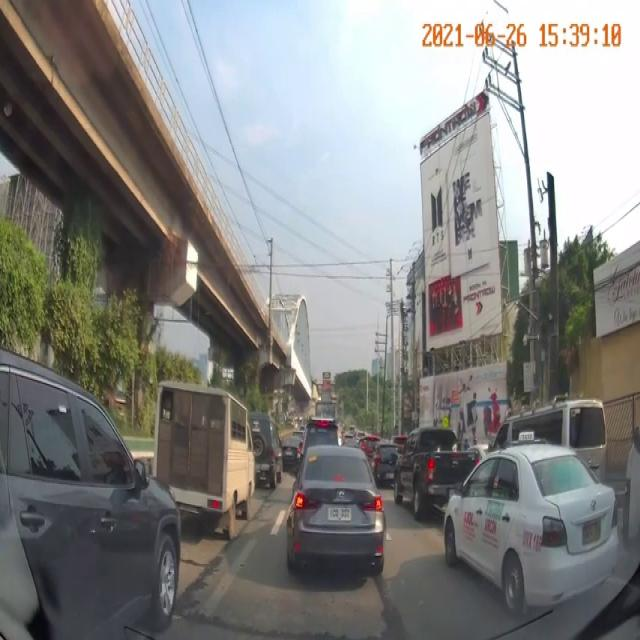car: (0, 375, 181, 617), (441, 450, 610, 593), (156, 378, 264, 538), (286, 454, 387, 582), (395, 426, 476, 519)
